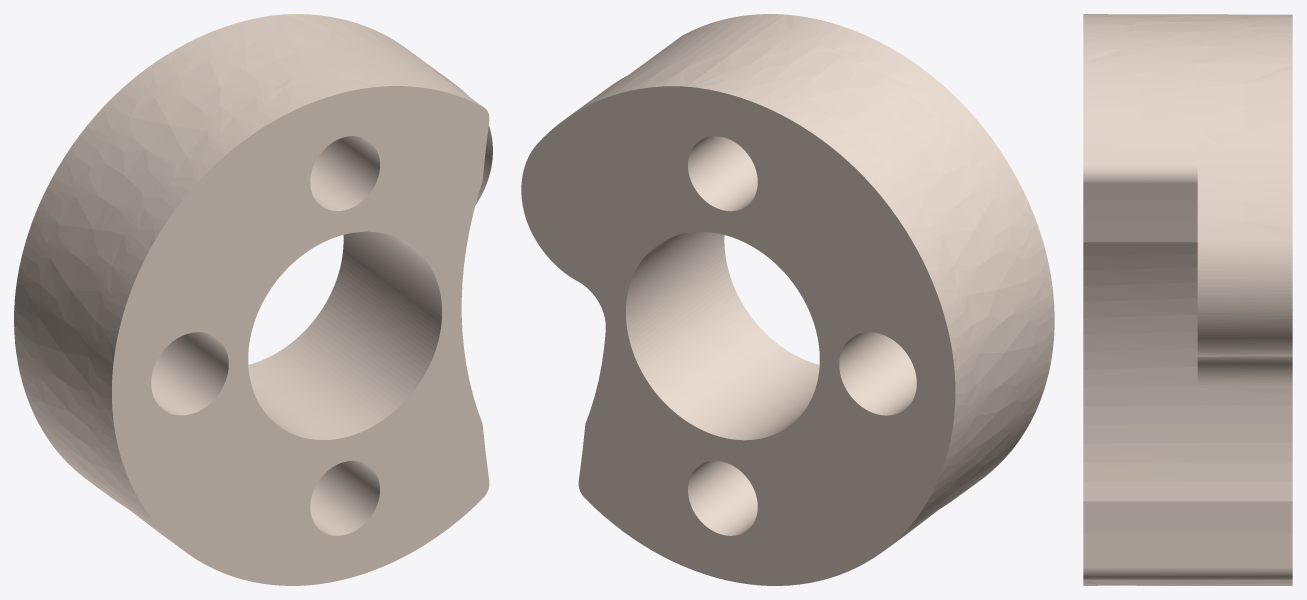
3 views of the same model, side by side, from view 1: azimuth 30°, elevation 25°; view 2: azimuth 150°, elevation 25°; view 3: azimuth 270°, elevation 25° (orthographic). The views are drawn at different scales.
Parts seen in each view (by area): view 1: Node1; view 2: Node1; view 3: Node1.
Boxes of the visible parts, bbox=[...] form: Node1: bbox=[14, 14, 492, 585]; Node1: bbox=[521, 14, 1054, 585]; Node1: bbox=[1083, 14, 1292, 585].
Bounding box in the file's own units: 56.07 × 60.02 × 22.
